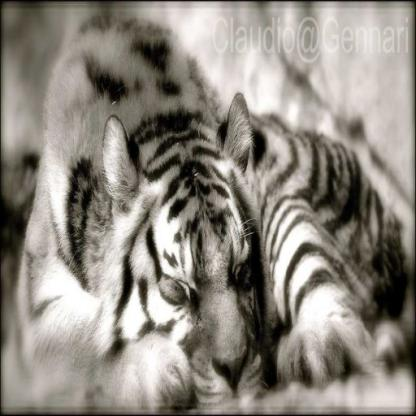Tiger: (32, 0, 415, 405)
